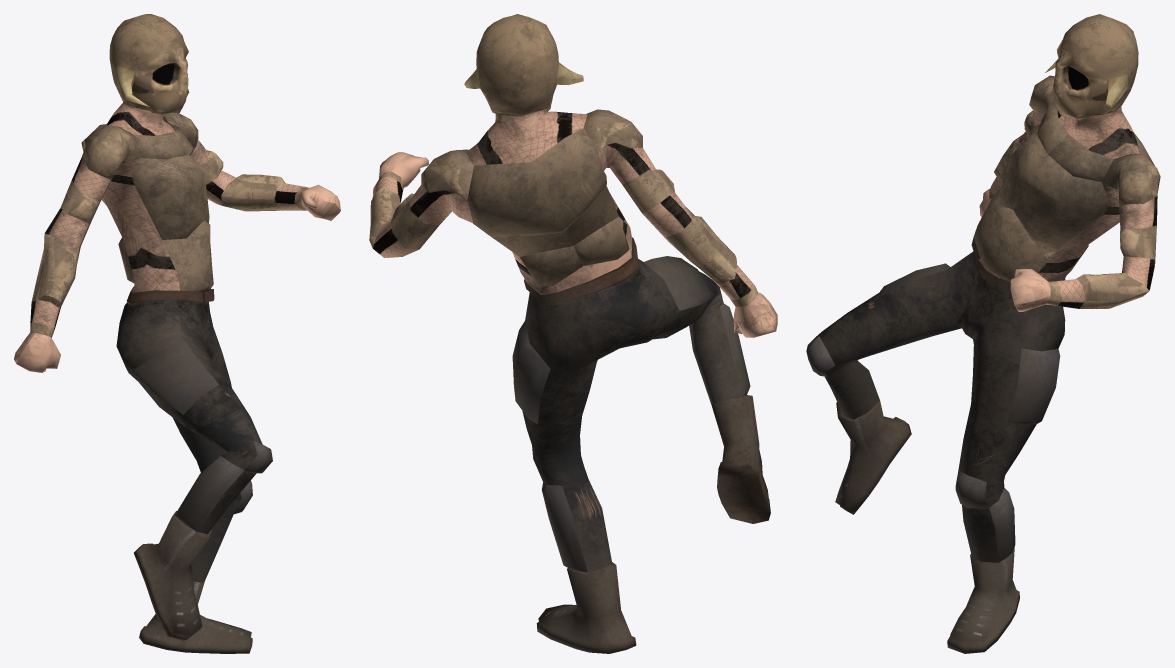
Rendered from Anim_ataque_f2_npc1.0015.obj.
3 renders of one model, left to right at view 1: azimuth 30°, elevation 25°; view 2: azimuth 150°, elevation 25°; view 3: azimuth 270°, elevation 25°, orthographic. The views are drawn at different scales.
Visible parts, largest first — view 1: NPC2; view 2: NPC2; view 3: NPC2.
Part boxes in pixels (x1,y1,x2,y2): NPC2: [14, 14, 340, 653]; NPC2: [369, 14, 777, 653]; NPC2: [806, 14, 1160, 653].
Bounding box in the file's own units: 5.49 × 9.26 × 4.84.
